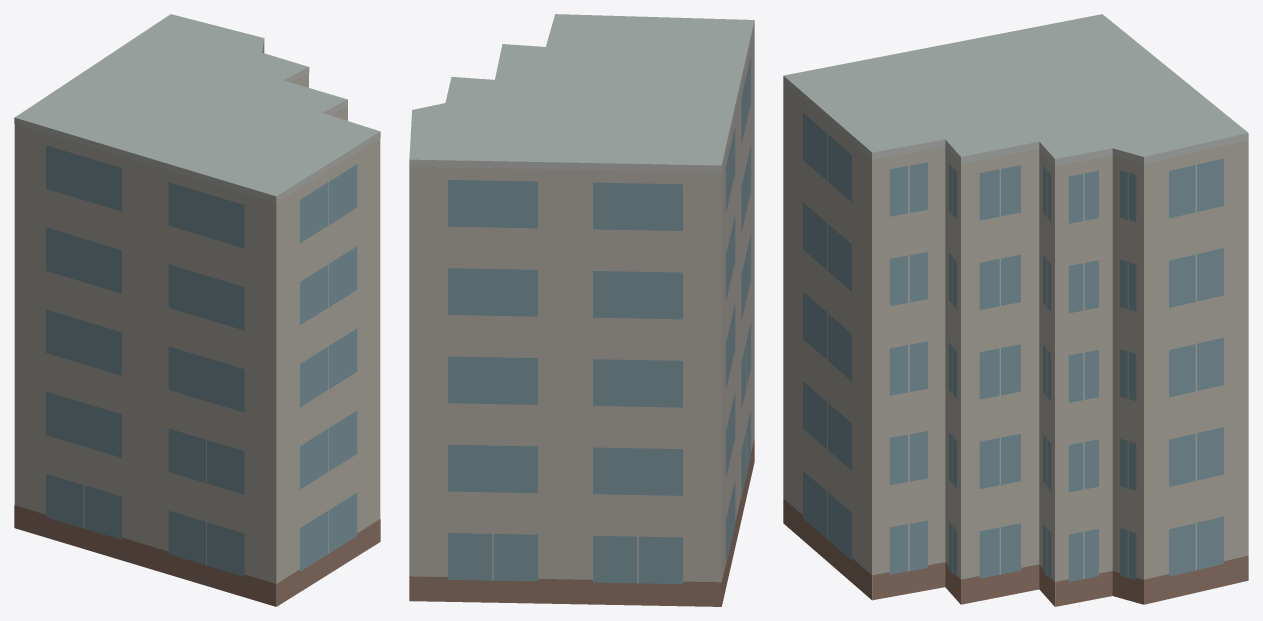
File: survey-upis-32590890.glb
3 views of the same model, side by side, from view 1: azimuth 30°, elevation 25°; view 2: azimuth 150°, elevation 25°; view 3: azimuth 270°, elevation 25° (orthographic). The views are drawn at different scales.
Visible parts, largest first — view 1: survey-upis-32590890.tmp; view 2: survey-upis-32590890.tmp; view 3: survey-upis-32590890.tmp.
Part boxes in pixels (box(x1,y1,x2,y2)): survey-upis-32590890.tmp: box(14, 14, 380, 606); survey-upis-32590890.tmp: box(409, 14, 754, 606); survey-upis-32590890.tmp: box(783, 14, 1248, 606).
Bounding box in the file's own units: 10.62 × 15.25 × 14.37.
